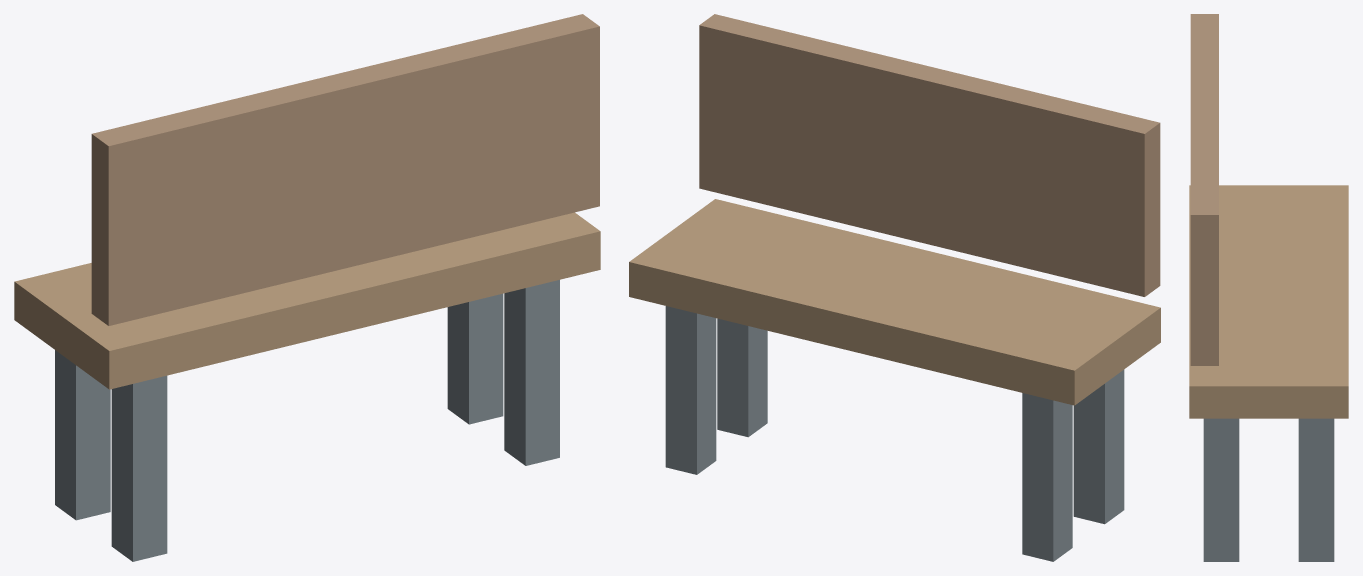
File: warlike-bench-3d.gltf
The picture shows the model from 3 angles, left to right: view 1: azimuth 30°, elevation 25°; view 2: azimuth 150°, elevation 25°; view 3: azimuth 270°, elevation 25°; orthographic projection. The views are drawn at different scales.
Bounding box in the file's own units: 2 × 1.67 × 0.67.
